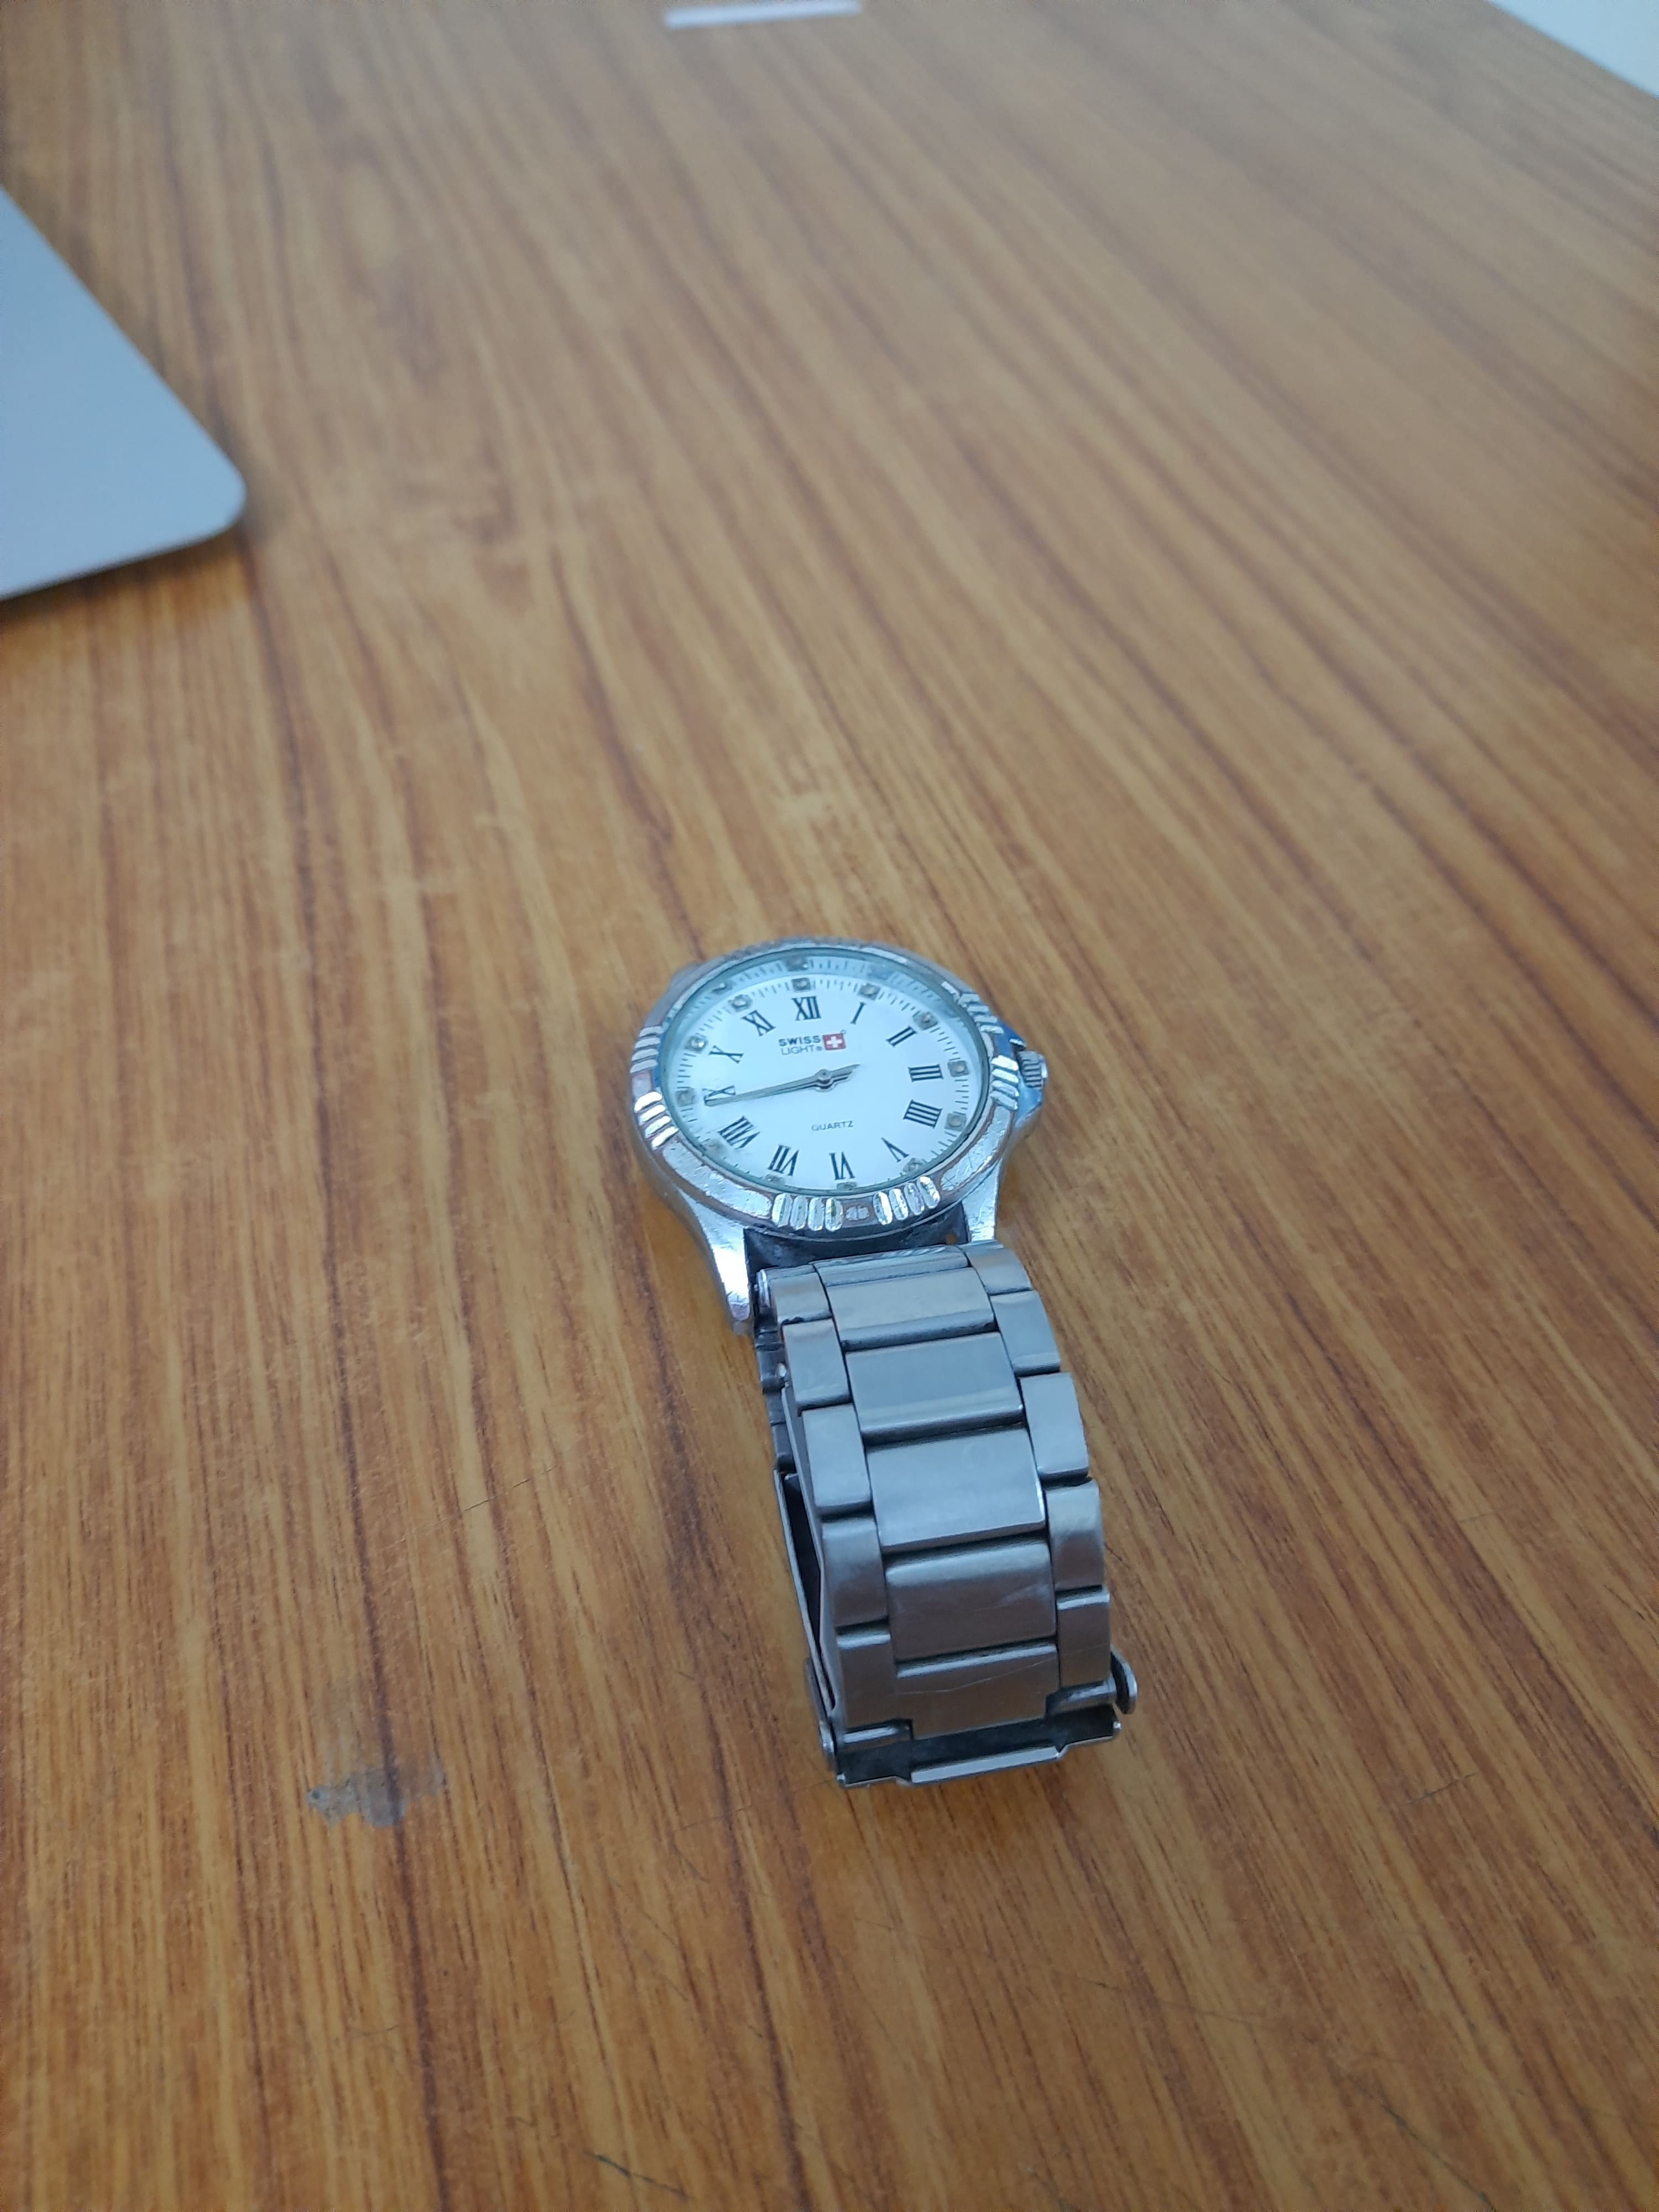Vikash's Watch: (601, 907, 1187, 1834)
